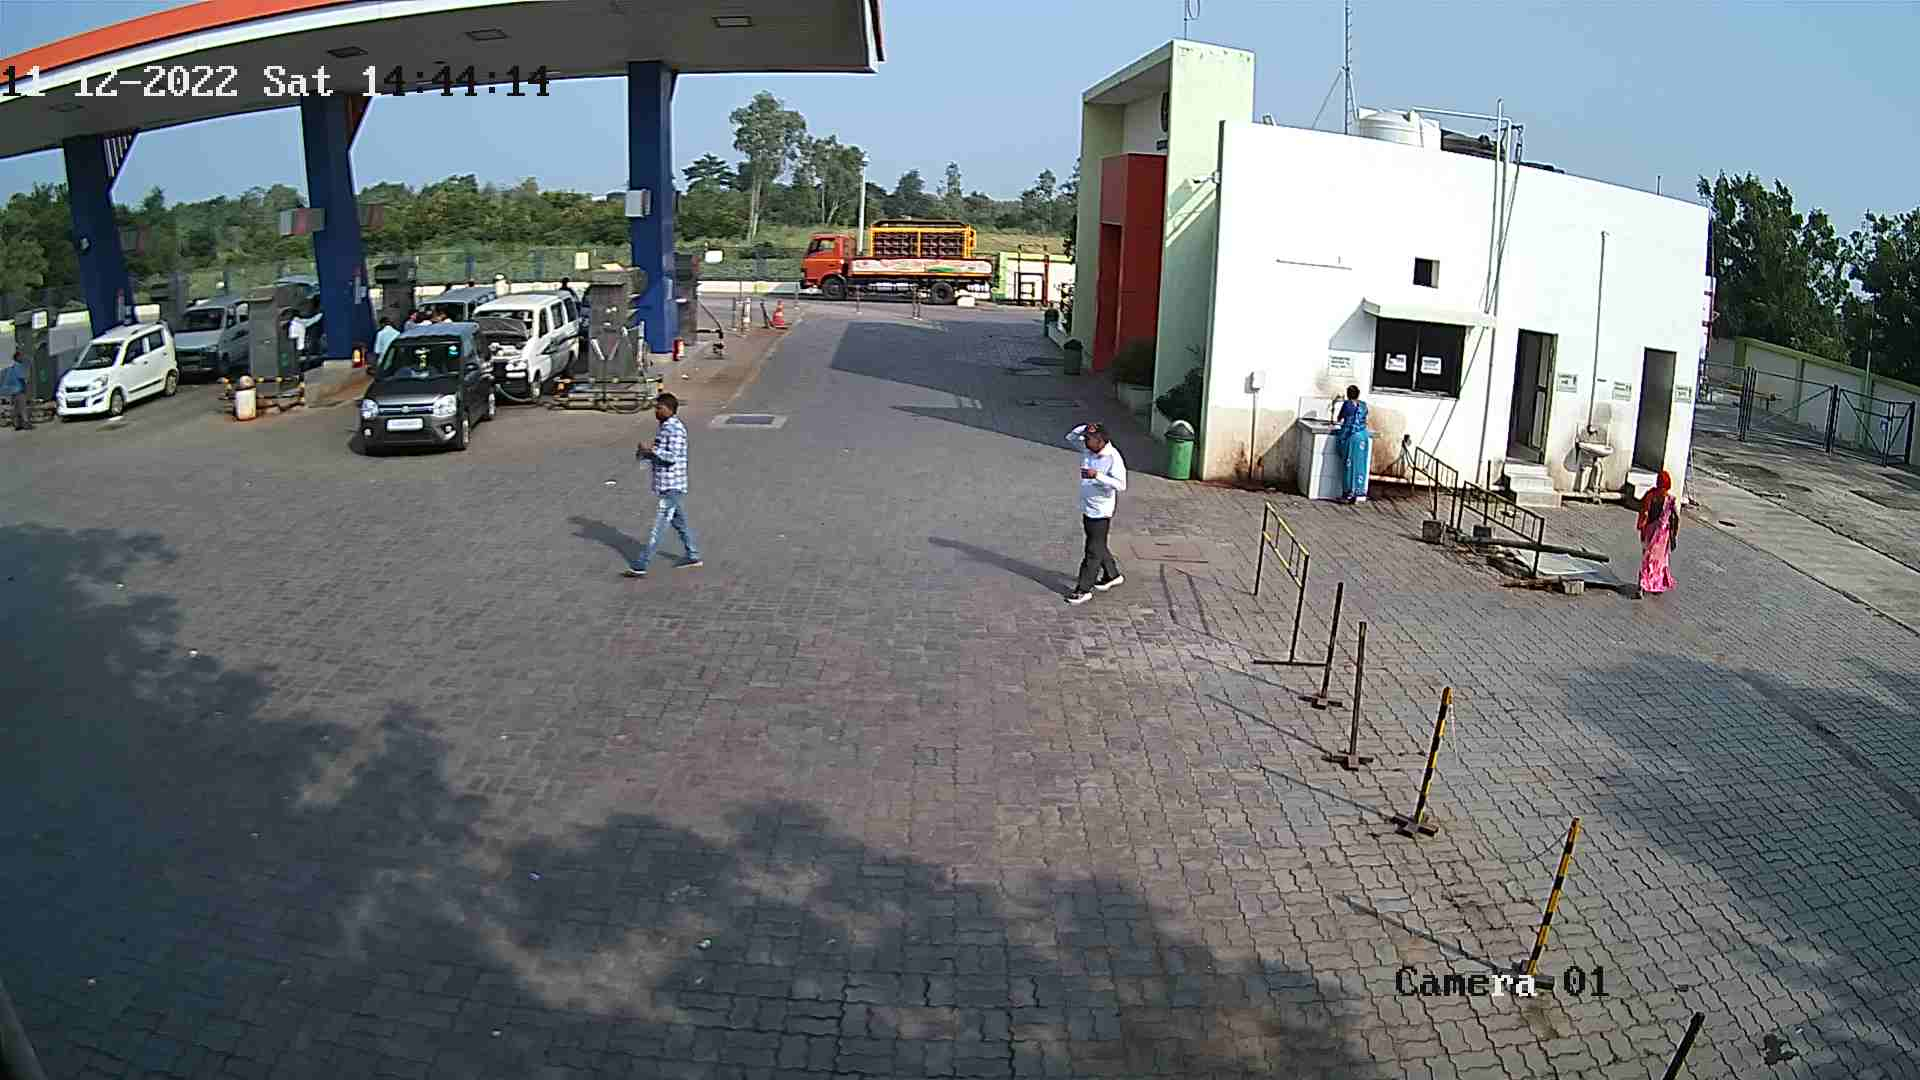Car: (339, 316, 495, 454), (50, 305, 190, 433), (458, 285, 582, 406), (154, 285, 274, 386), (276, 274, 332, 380), (398, 278, 498, 328), (568, 278, 597, 353)
HMV: (795, 200, 1001, 316)
